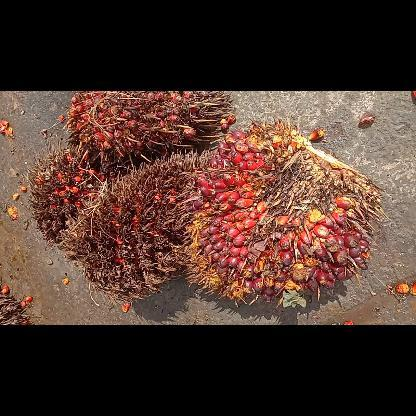TBS masak: (180, 117, 388, 307), (63, 91, 232, 167)
Terlalu masak: (60, 147, 212, 300), (28, 138, 121, 244)
